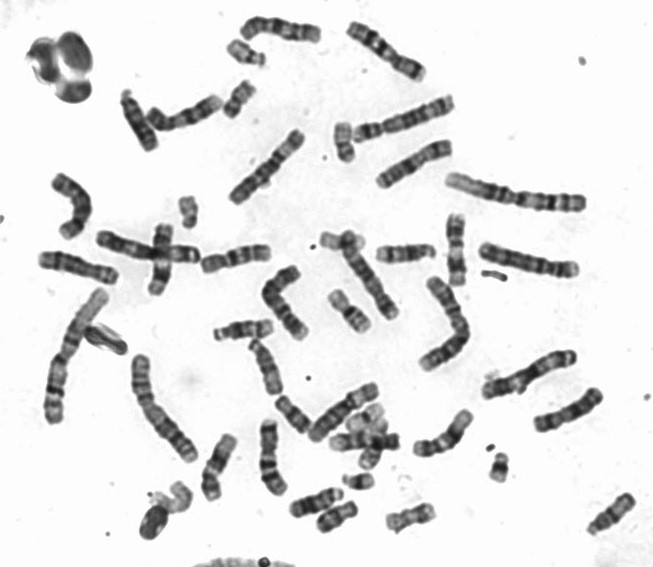chromosomes: (40, 282, 120, 435), (125, 348, 204, 466), (437, 167, 604, 217), (219, 122, 307, 210), (472, 340, 587, 407), (346, 83, 464, 147), (407, 270, 475, 377), (342, 14, 436, 89), (336, 226, 403, 325), (305, 373, 386, 448), (371, 132, 458, 196), (529, 380, 612, 441), (258, 258, 319, 341), (44, 162, 101, 250), (475, 238, 586, 281), (405, 402, 478, 467), (92, 226, 207, 267), (31, 246, 129, 294), (111, 84, 166, 164), (230, 10, 334, 50), (439, 205, 484, 296), (144, 87, 227, 134), (250, 418, 293, 507), (142, 215, 185, 303), (578, 487, 640, 546), (195, 236, 277, 278), (240, 334, 292, 399), (320, 279, 378, 337), (202, 426, 241, 511), (283, 480, 349, 526), (366, 233, 445, 270), (213, 74, 264, 130), (142, 473, 200, 518), (207, 314, 290, 345), (383, 499, 447, 537), (355, 412, 393, 471), (268, 391, 316, 436), (324, 114, 362, 170), (325, 428, 405, 454), (312, 497, 365, 536), (220, 37, 274, 74), (306, 227, 374, 254), (345, 395, 389, 435), (172, 190, 206, 233), (484, 448, 517, 491), (337, 466, 378, 493)
